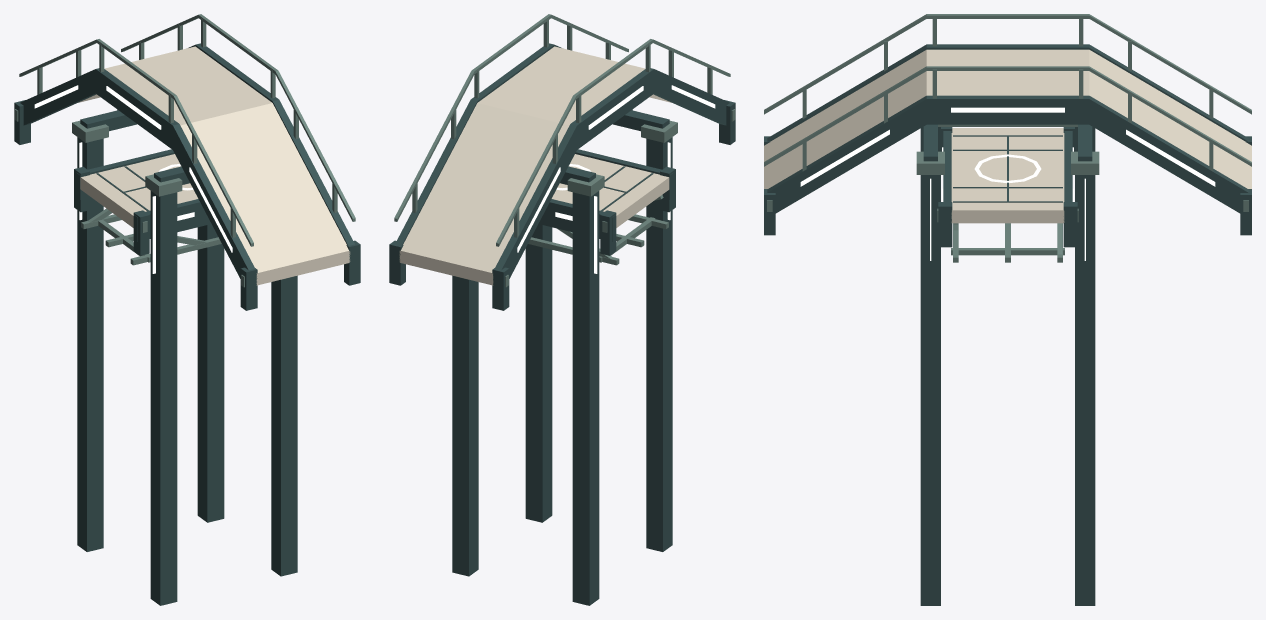
Rendered from Crossing_lab.glb.
3 views of the same model, side by side, from view 1: azimuth 30°, elevation 25°; view 2: azimuth 150°, elevation 25°; view 3: azimuth 270°, elevation 25° (orthographic). The views are drawn at different scales.
Parts seen in each view (by area): view 1: Crossing; view 2: Crossing; view 3: Crossing.
Boxes of the visible parts, x1,y1,x2,y2 form: Crossing: (14,14,360,605); Crossing: (389,14,735,605); Crossing: (764,14,1251,605).
Bounding box in the file's own units: 4.82 × 14.38 × 12.
